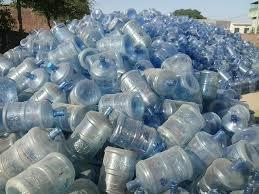Plastic can: (125, 146, 200, 186), (15, 155, 81, 194), (71, 100, 113, 158), (87, 146, 136, 192), (0, 100, 64, 129), (122, 66, 160, 113), (161, 106, 207, 144), (205, 153, 248, 193), (1, 55, 44, 83), (191, 125, 228, 156), (121, 18, 152, 53), (89, 54, 120, 87), (48, 62, 77, 89), (197, 69, 224, 97)
